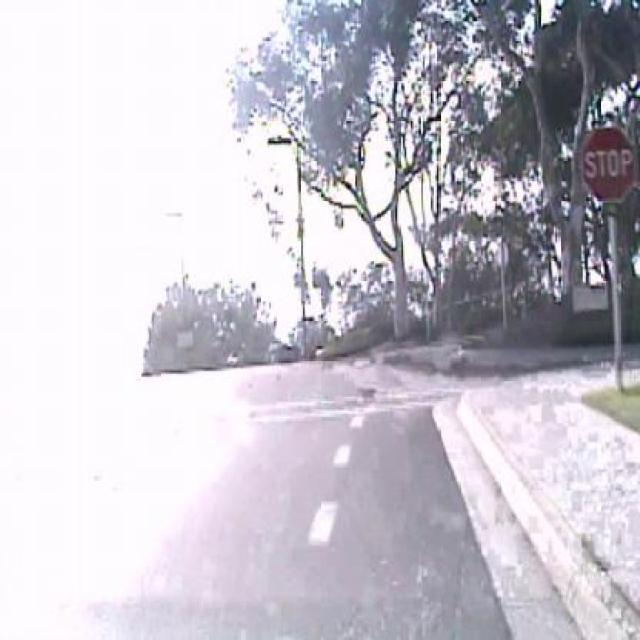stop: (581, 124, 637, 200)
